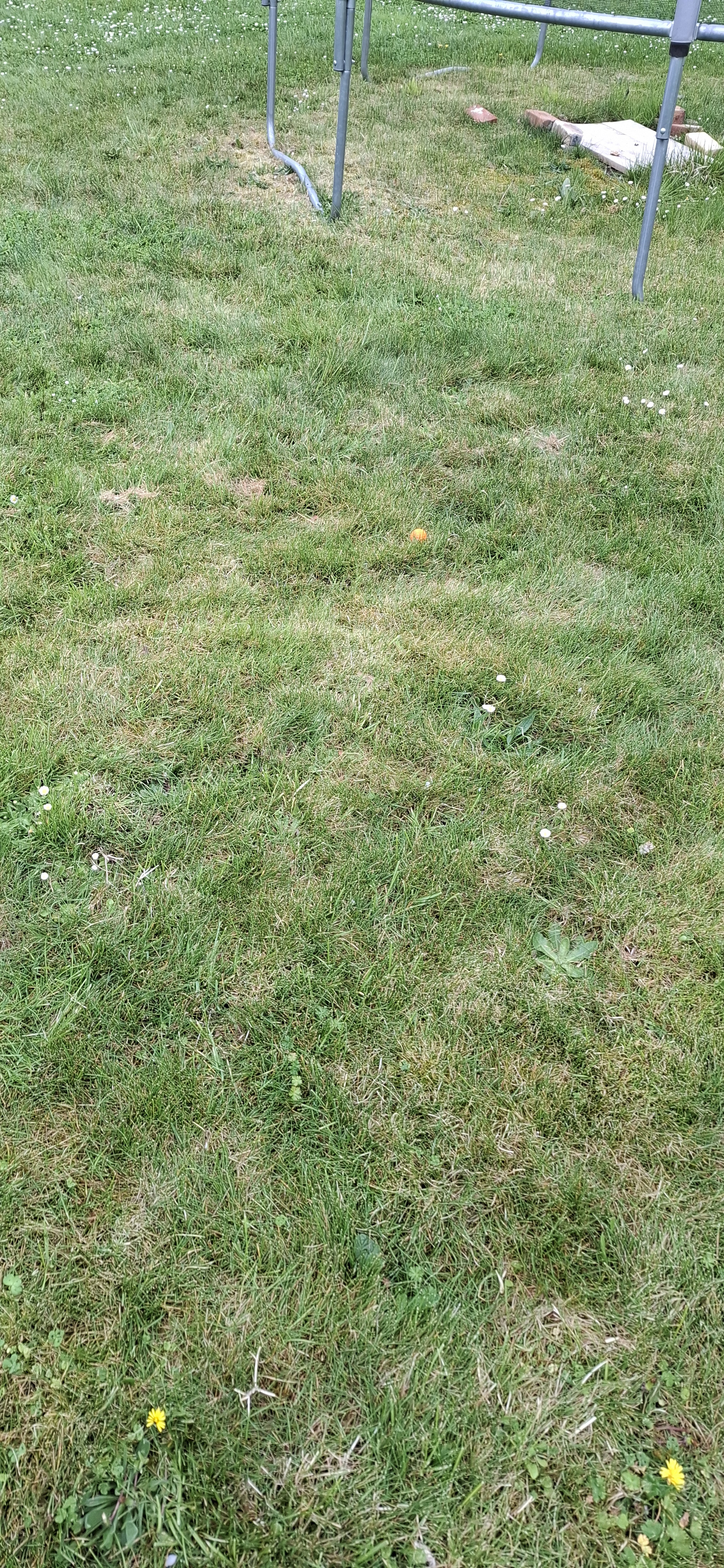ball: (244, 644, 252, 680)
